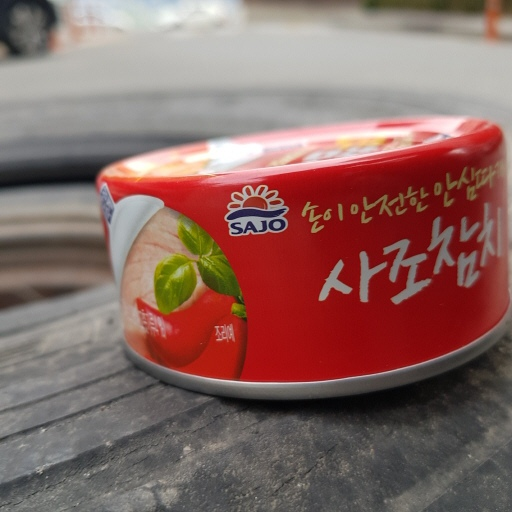Metal_1: (90, 117, 512, 401)
